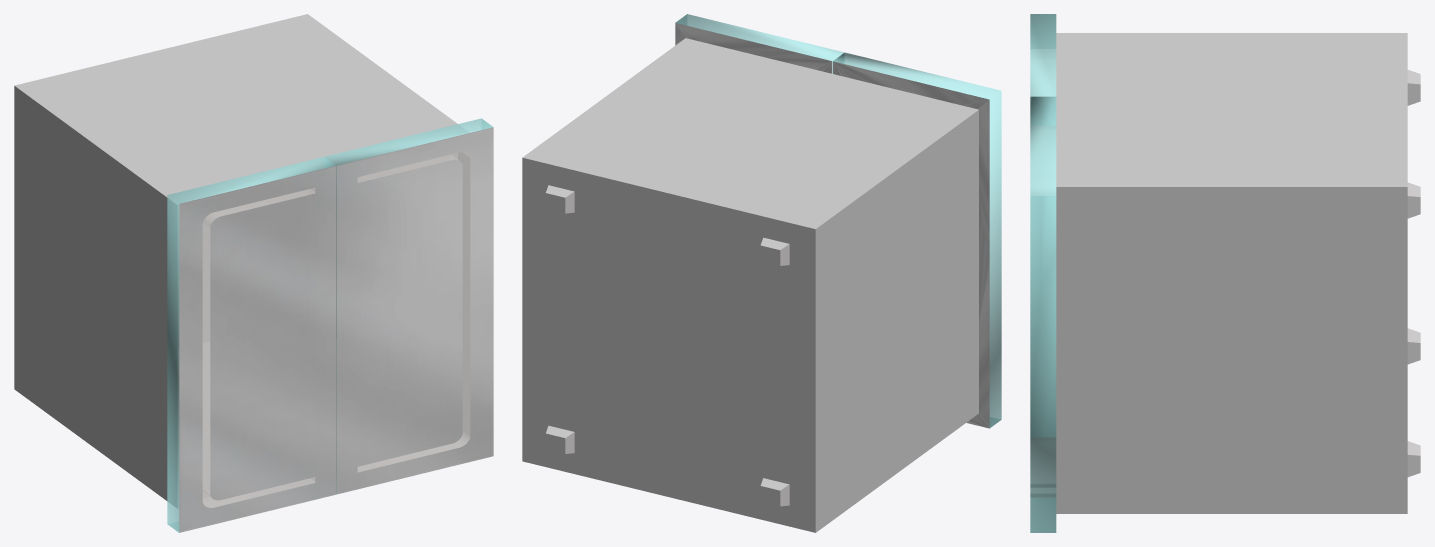
File: sh-contrib-bathroom-cupboard-mirror.glb
The picture shows the model from 3 angles, left to right: view 1: azimuth 30°, elevation 25°; view 2: azimuth 150°, elevation 25°; view 3: azimuth 270°, elevation 25°; orthographic projection. The views are drawn at different scales.
Parts seen in each view (by area): view 1: 1_1, sweethome3d_window_mirror_12, sweethome3d_window_mirror_14, 11_11; view 2: 1_1, sweethome3d_window_mirror_14, sweethome3d_window_mirror_12; view 3: 1_1, sweethome3d_window_mirror_14, 11_11.
Part boxes in pixels (bbox=[...]): 1_1: bbox=[14, 14, 469, 508]; sweethome3d_window_mirror_12: bbox=[179, 127, 493, 532]; sweethome3d_window_mirror_14: bbox=[167, 118, 493, 532]; 11_11: bbox=[202, 152, 470, 507]; 1_1: bbox=[522, 38, 978, 532]; sweethome3d_window_mirror_14: bbox=[675, 14, 1001, 427]; sweethome3d_window_mirror_12: bbox=[675, 23, 989, 428]; 1_1: bbox=[1056, 33, 1420, 513]; sweethome3d_window_mirror_14: bbox=[1030, 14, 1056, 532]; 11_11: bbox=[1031, 49, 1055, 497].
Size of the model in its own units: 1 by 1 by 1.
Materials: 4 (1 with a texture image).
